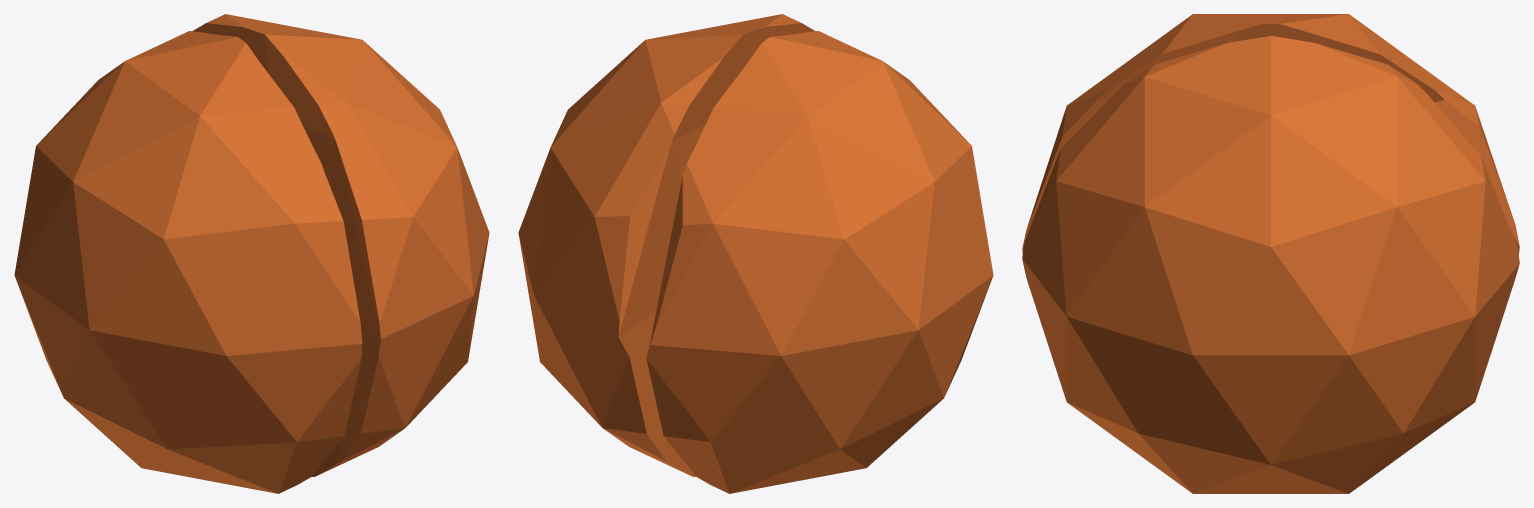
File: Cañon.fbx
3 views of the same model, side by side, from view 1: azimuth 30°, elevation 25°; view 2: azimuth 150°, elevation 25°; view 3: azimuth 270°, elevation 25° (orthographic). The views are drawn at different scales.
Visible parts, largest first — view 1: Icosphere; view 2: Icosphere; view 3: Icosphere.
Boxes of the visible parts, left/top/right/bottom form: Icosphere: left=14, top=14, right=489, bottom=493; Icosphere: left=518, top=14, right=993, bottom=493; Icosphere: left=1022, top=14, right=1519, bottom=493.
Bounding box in the file's own units: 323 × 334 × 335.
